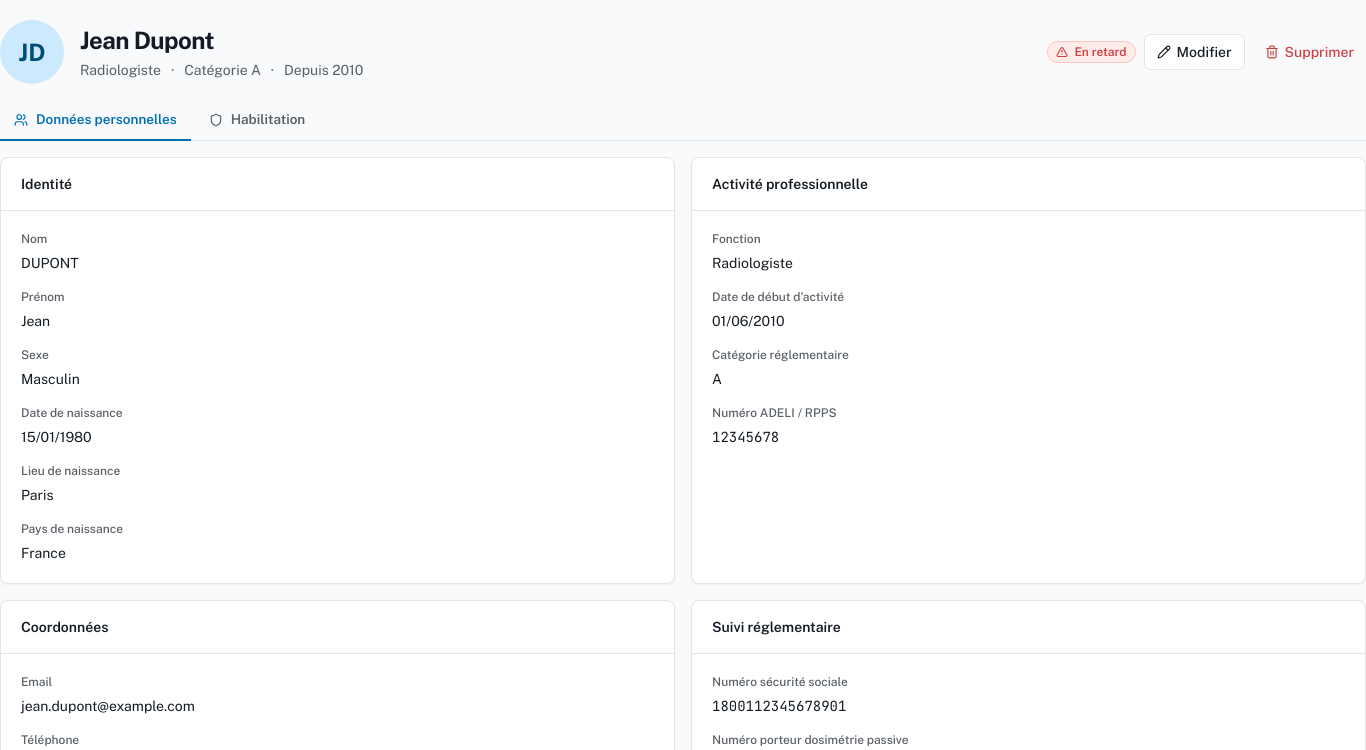
HabilitationTab and Competences › should display habilitation status with partielle badge
Click the button "Habilitation" at (257, 120), box [195, 100, 319, 141]
(page scrolled)
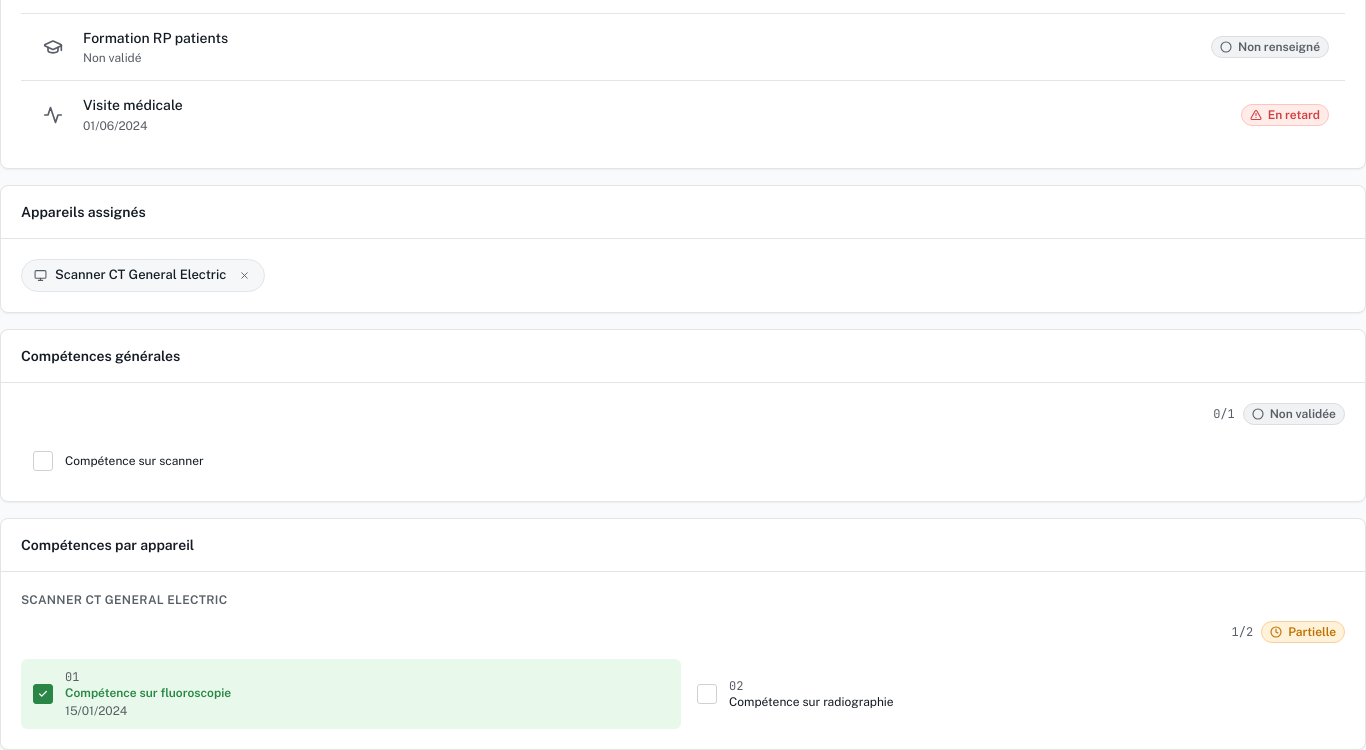
Result: the text "Partielle" is shown at [1261, 621, 1345, 643]
